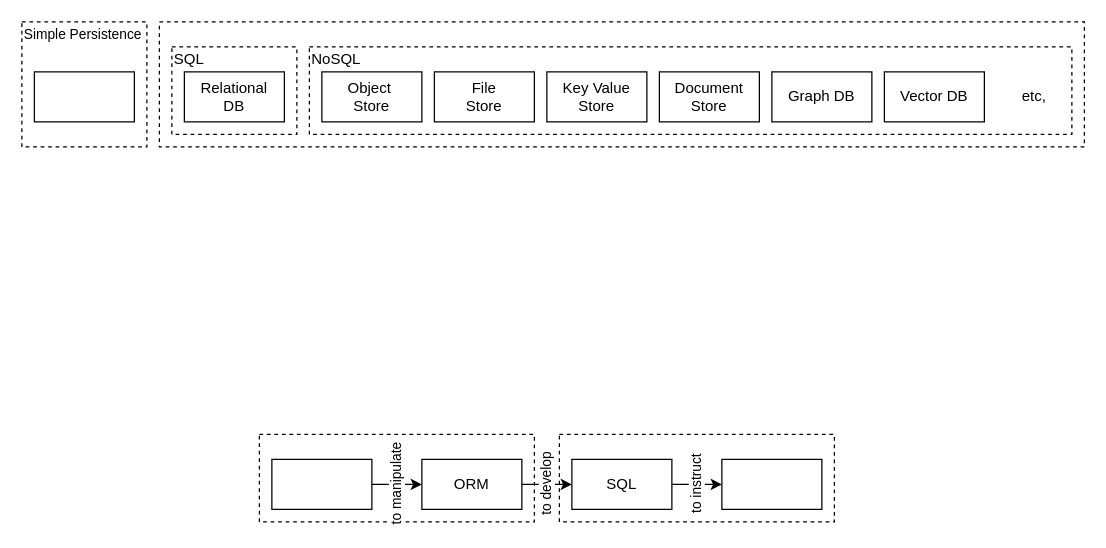
The diagram is 1106 pixels wide and 548 high, and some of its shapes have lost their labels. The box of each missing label's shape, as (x1, y1, x2, y2) in pixels:
Code: (271, 458, 372, 509)
File: (33, 71, 134, 122)
Logic Development: (258, 433, 534, 522)
Relational Storage: (721, 458, 822, 509)
Storage Development: (558, 433, 834, 522)
Stores: (158, 21, 1084, 147)
